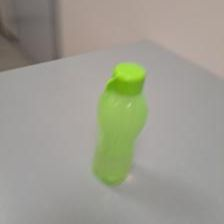bottle: (89, 61, 154, 183)
